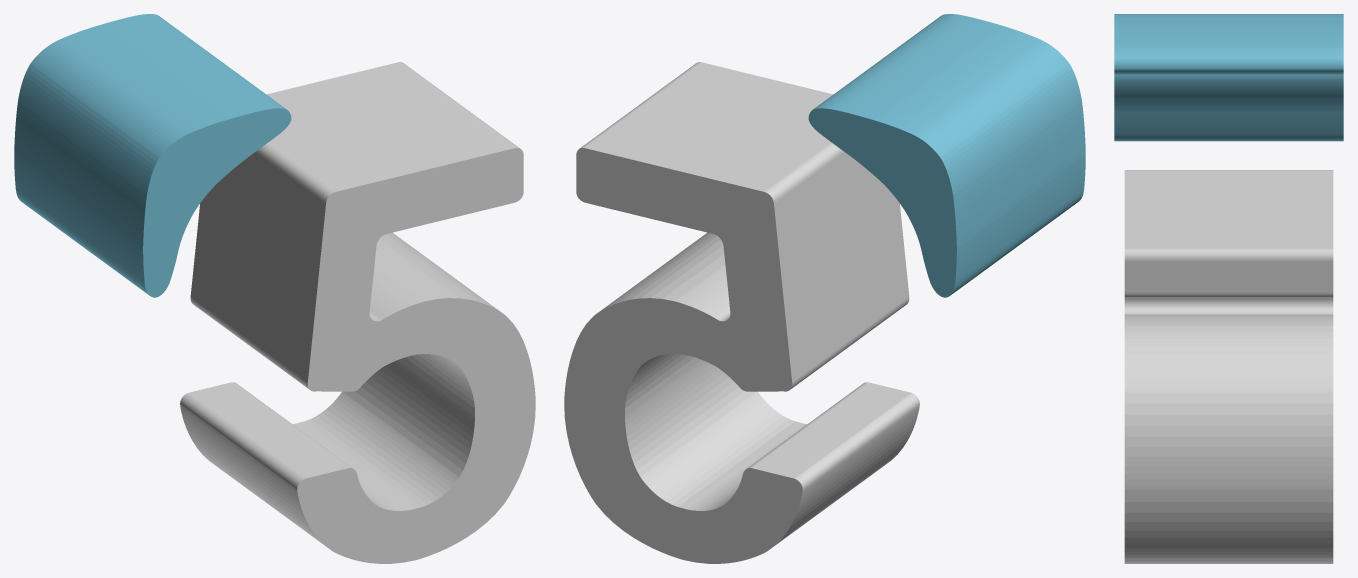
3 renders of one model, left to right at view 1: azimuth 30°, elevation 25°; view 2: azimuth 150°, elevation 25°; view 3: azimuth 270°, elevation 25°, orthographic. The views are drawn at different scales.
Parts seen in each view (by area): view 1: U+FE832_layer00_obj00, U+FE832_layer01_obj00; view 2: U+FE832_layer00_obj00, U+FE832_layer01_obj00; view 3: U+FE832_layer00_obj00, U+FE832_layer01_obj00.
Part boxes in pixels (x1,y1,x2,y2): U+FE832_layer00_obj00: (180, 62, 535, 563); U+FE832_layer01_obj00: (14, 14, 291, 297); U+FE832_layer00_obj00: (564, 62, 919, 563); U+FE832_layer01_obj00: (808, 14, 1085, 297); U+FE832_layer00_obj00: (1124, 170, 1333, 563); U+FE832_layer01_obj00: (1114, 14, 1343, 141).
Size of the model in its own units: 0.1963 by 0.232 by 0.11.
